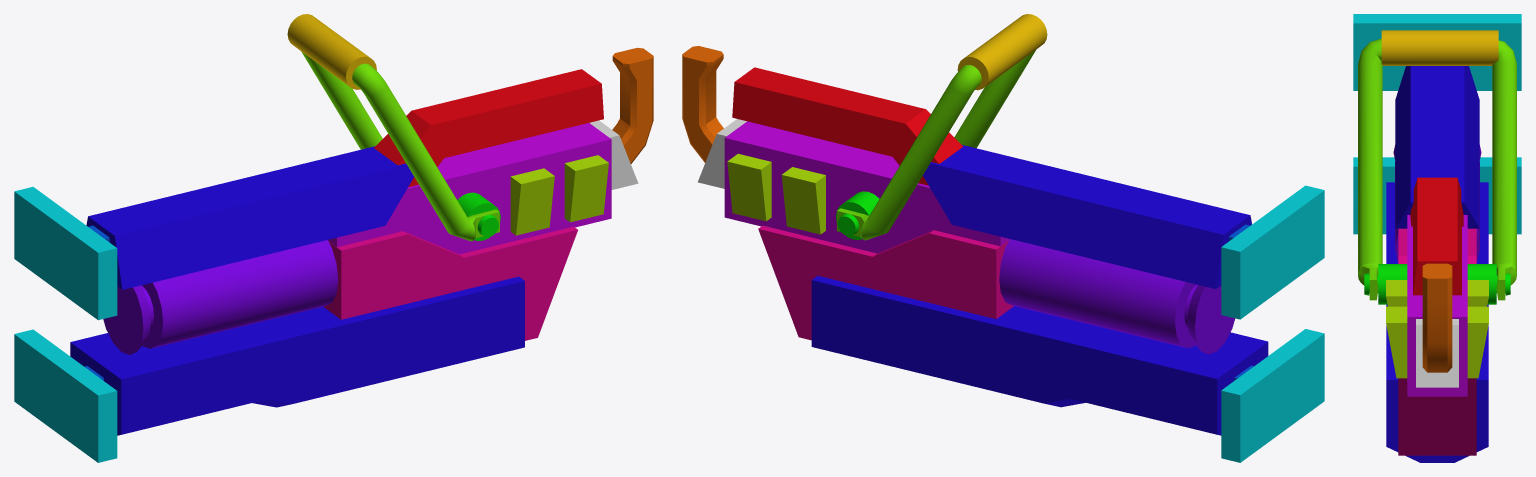
File: tractor_tool.glb
3 views of the same model, side by side, from view 1: azimuth 30°, elevation 25°; view 2: azimuth 150°, elevation 25°; view 3: azimuth 270°, elevation 25° (orthographic).
Parts seen in each view (by area): view 1: Cube.002, Cube.004, Cube, Cylinder, Cube.005, Cube.003, Cube.006, Cylinder.003, Cube.011, Cylinder.002, Cube.010, Cube.009 (+2 smaller); view 2: Cube.002, Cube.004, Cube, Cylinder, Cube.005, Cube.003, Cube.006, Cylinder.003, Cube.011, Cylinder.002, Cube.010, Cube.009 (+2 smaller); view 3: Cylinder.003, Cube.004, Cube, Cube.005, Cube.006, Cube.002, Cylinder.002, Cube.003, Cube.011, Cube.010, Cube.008, Cylinder.004 (+3 smaller).
Boxes of the visible parts, left/top/right/bottom form: Cube.002: left=70, top=276, right=524, bottom=435; Cube.004: left=86, top=146, right=414, bottom=289; Cube: left=14, top=187, right=117, bottom=462; Cylinder: left=103, top=240, right=338, bottom=354; Cube.005: left=323, top=226, right=577, bottom=340; Cube.003: left=328, top=123, right=611, bottom=254; Cube.006: left=374, top=69, right=603, bottom=187; Cylinder.003: left=301, top=51, right=499, bottom=241; Cube.011: left=612, top=47, right=653, bottom=163; Cylinder.002: left=287, top=14, right=376, bottom=89; Cube.010: left=564, top=155, right=608, bottom=222; Cube.009: left=510, top=168, right=554, bottom=235; Cube.002: left=811, top=275, right=1268, bottom=435; Cube.004: left=923, top=145, right=1251, bottom=288; Cube: left=1221, top=185, right=1324, bottom=462; Cylinder: left=999, top=239, right=1235, bottom=354; Cube.005: left=758, top=225, right=1013, bottom=340; Cube.003: left=724, top=121, right=1009, bottom=253; Cube.006: left=732, top=67, right=962, bottom=185; Cylinder.003: left=836, top=49, right=1036, bottom=240; Cube.011: left=682, top=46, right=723, bottom=162; Cylinder.002: left=957, top=14, right=1047, bottom=90; Cube.010: left=727, top=153, right=771, bottom=221; Cube.009: left=781, top=167, right=825, bottom=234; Cylinder.003: left=1358, top=38, right=1516, bottom=300; Cube.004: left=1395, top=66, right=1479, bottom=228; Cube: left=1353, top=14, right=1521, bottom=234; Cube.005: left=1398, top=228, right=1476, bottom=455; Cube.006: left=1410, top=177, right=1463, bottom=295; Cube.002: left=1386, top=182, right=1488, bottom=462; Cylinder.002: left=1381, top=30, right=1498, bottom=65; Cube.003: left=1407, top=215, right=1467, bottom=396; Cube.011: left=1422, top=263, right=1452, bottom=372; Cube.010: left=1386, top=306, right=1488, bottom=378; Cube.008: left=1416, top=319, right=1458, bottom=387; Cylinder.004: left=1378, top=264, right=1496, bottom=304.
Bounding box in the file's own units: 1.1 × 0.617 × 0.2693.
